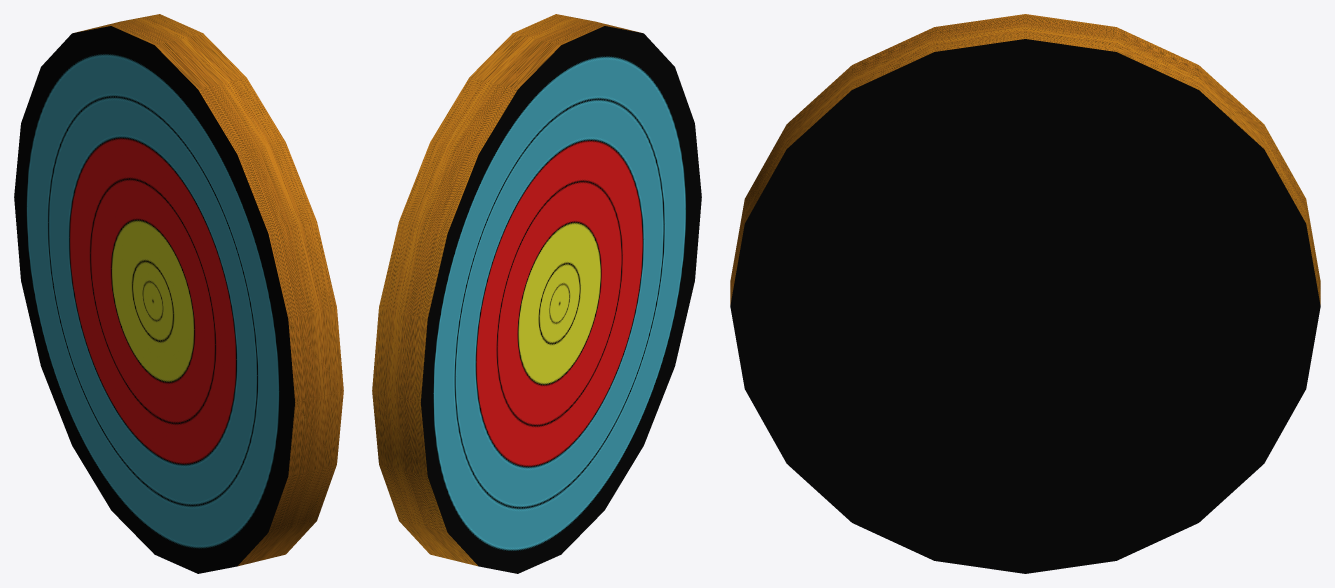
The model's file is target.fbx.
The picture shows the model from 3 angles, left to right: view 1: azimuth 30°, elevation 25°; view 2: azimuth 150°, elevation 25°; view 3: azimuth 270°, elevation 25°; orthographic projection. The views are drawn at different scales.
Visible parts, largest first — view 1: pCylinder1; view 2: pCylinder1; view 3: pCylinder1.
Boxes of the visible parts, <box> form: pCylinder1: <box>14,14,343,573</box>; pCylinder1: <box>372,14,701,573</box>; pCylinder1: <box>730,14,1320,573</box>.
Bounding box in the file's own units: 2 × 20 × 20.
1 material, 1 textured.
